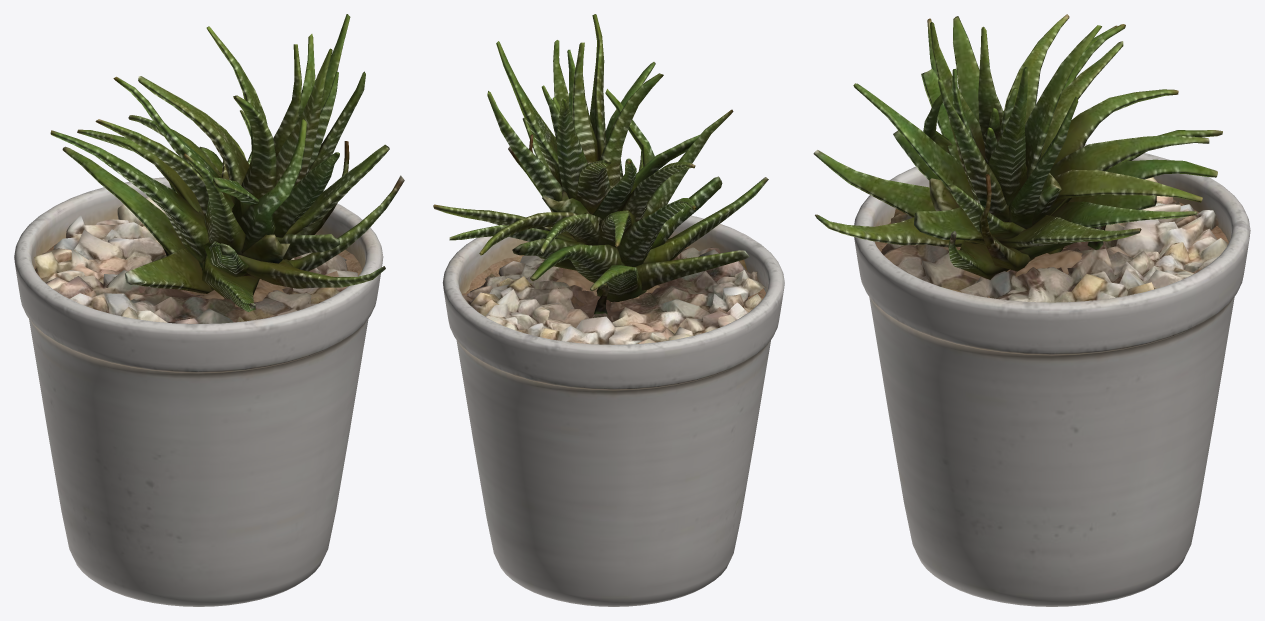
Rendered from potted_plant_04.glb.
3 views of the same model, side by side, from view 1: azimuth 30°, elevation 25°; view 2: azimuth 150°, elevation 25°; view 3: azimuth 270°, elevation 25° (orthographic). The views are drawn at different scales.
Visible parts, largest first — view 1: potted_plant_04_pot, potted_plant_04_plant, potted_plant_04_ground, potted_plant_04_dirt; view 2: potted_plant_04_pot, potted_plant_04_plant, potted_plant_04_ground, potted_plant_04_dirt; view 3: potted_plant_04_pot, potted_plant_04_plant, potted_plant_04_ground, potted_plant_04_dirt.
Part boxes in pixels (bbox=[...]): potted_plant_04_pot: bbox=[14, 177, 383, 606]; potted_plant_04_plant: bbox=[50, 14, 404, 311]; potted_plant_04_ground: bbox=[34, 196, 357, 323]; potted_plant_04_dirt: bbox=[34, 238, 362, 307]; potted_plant_04_pot: bbox=[442, 215, 784, 606]; potted_plant_04_plant: bbox=[433, 14, 768, 314]; potted_plant_04_ground: bbox=[463, 247, 765, 344]; potted_plant_04_dirt: bbox=[462, 247, 765, 306]; potted_plant_04_pot: bbox=[854, 144, 1250, 606]; potted_plant_04_plant: bbox=[813, 14, 1222, 279]; potted_plant_04_ground: bbox=[881, 177, 1227, 302]; potted_plant_04_dirt: bbox=[875, 200, 1228, 297].
Size of the model in its own units: 0.1679 by 0.2675 by 0.1848.
Materials: 1 (1 with a texture image).
